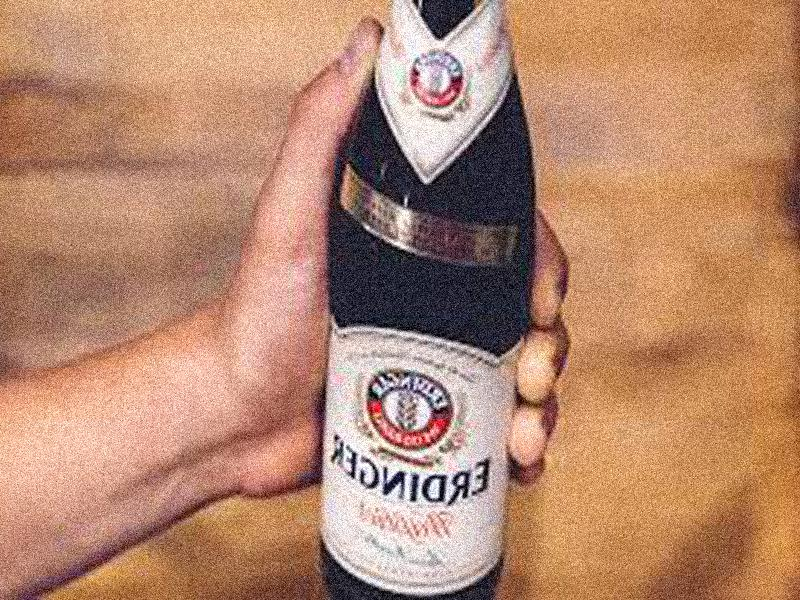Beer: (316, 7, 534, 600)
